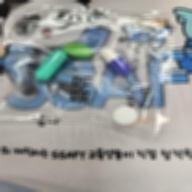러키펜정: (112, 106, 138, 126)
씨엠지세파클러캡슐: (98, 48, 130, 76)
에르도캡슐: (35, 50, 68, 82)
휴티렌정: (62, 43, 95, 59)
